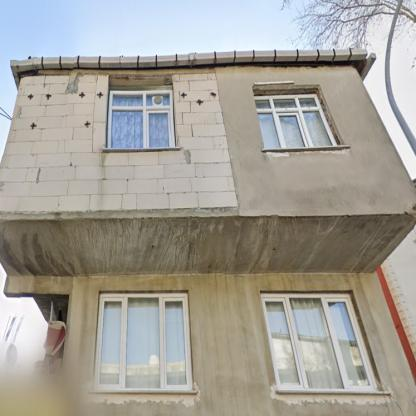window: (264, 297, 373, 390), (98, 295, 188, 391), (254, 97, 333, 149), (110, 92, 170, 147)
